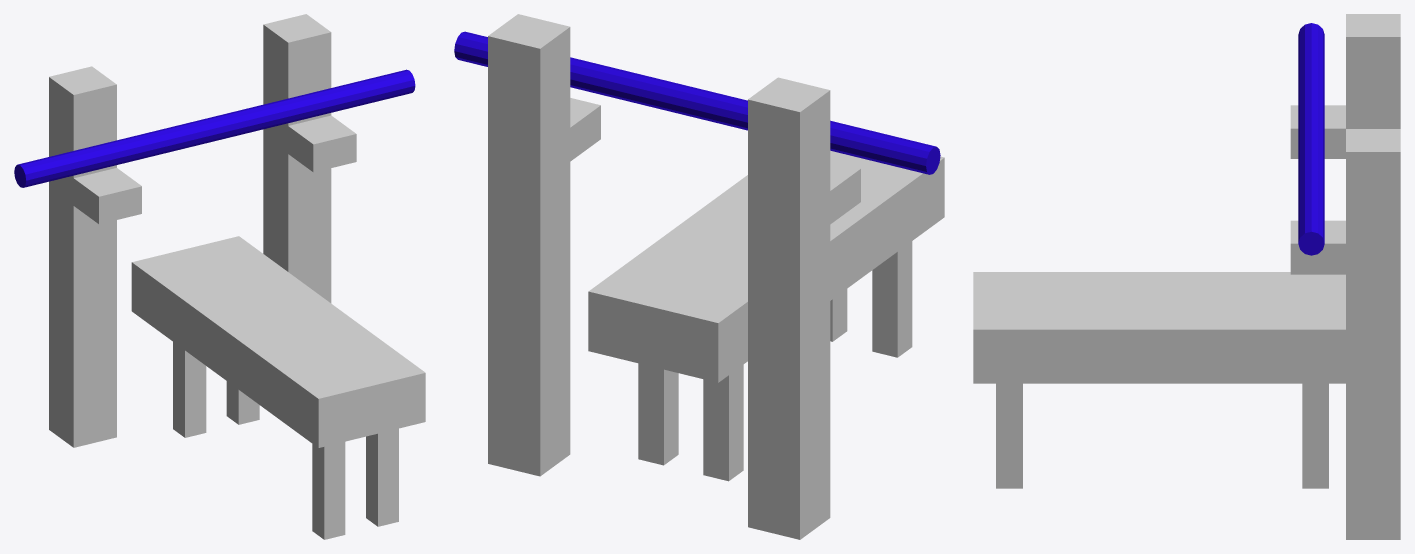
File: bench.fbx
The picture shows the model from 3 angles, left to right: view 1: azimuth 30°, elevation 25°; view 2: azimuth 150°, elevation 25°; view 3: azimuth 270°, elevation 25°; orthographic projection. The views are drawn at different scales.
Visible parts, largest first — view 1: Cube, Cube.002, Cube.001, Cylinder.004, Cube.005, Cube.006, Cube.004, Cube.003; view 2: Cube.001, Cube.002, Cube, Cylinder.004, Cube.004, Cube.005, Cube.003, Cube.006; view 3: Cube, Cube.001, Cube.002, Cylinder.004, Cube.003, Cube.006.
Boxes of the visible parts, x1,y1,x2,y2 form: Cube: (131, 236, 425, 447); Cube.002: (49, 66, 141, 447); Cube.001: (263, 14, 356, 303); Cylinder.004: (14, 69, 415, 187); Cube.005: (312, 442, 345, 539); Cube.006: (366, 428, 398, 526); Cube.004: (173, 342, 206, 437); Cube.003: (226, 381, 259, 424); Cube.001: (488, 14, 600, 476); Cube.002: (748, 77, 860, 539); Cube: (588, 150, 944, 382); Cylinder.004: (454, 31, 940, 174); Cube.004: (703, 364, 743, 481); Cube.005: (872, 241, 912, 357); Cube.003: (638, 363, 678, 465); Cube.006: (830, 289, 847, 341); Cube: (973, 272, 1345, 383); Cube.001: (1290, 129, 1400, 539); Cube.002: (1290, 14, 1400, 158); Cylinder.004: (1298, 23, 1324, 255); Cube.003: (1302, 383, 1328, 488); Cube.006: (996, 383, 1022, 488).
Size of the model in its own units: 726 by 629 by 628.
